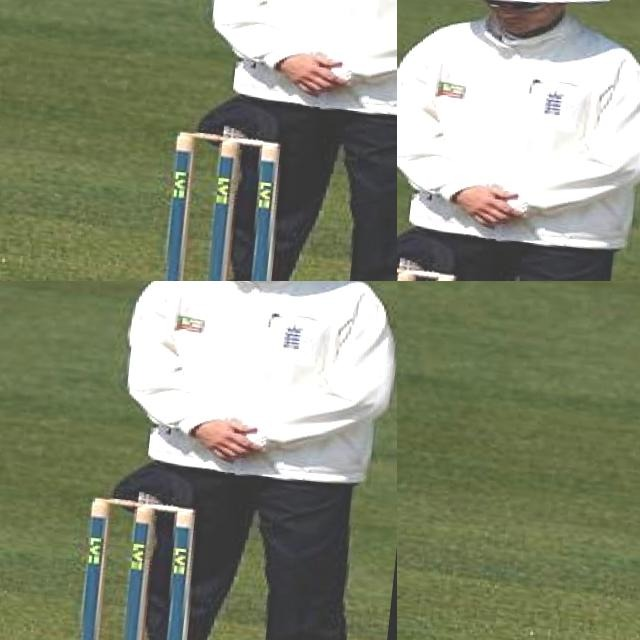No_Action: (75, 281, 397, 640)
No_Ball: (397, 281, 640, 640), (397, 0, 640, 281)
